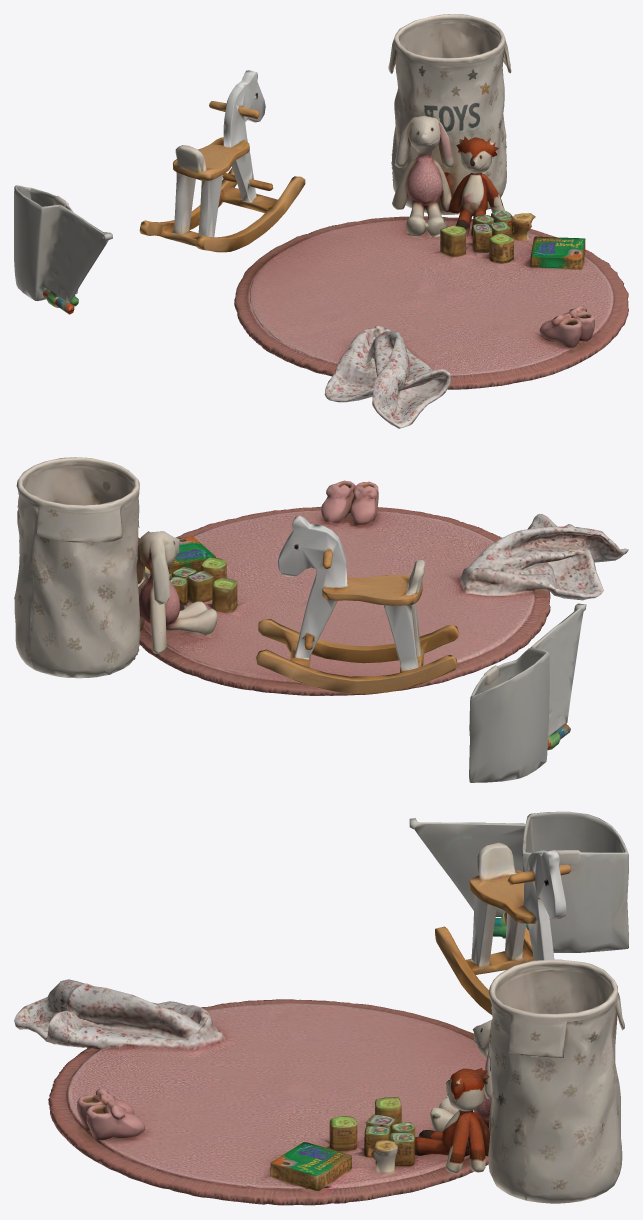
Rendered from scene_blush_rug.glb.
3 views of the same model, one above another, from view 1: azimuth 30°, elevation 25°; view 2: azimuth 150°, elevation 25°; view 3: azimuth 270°, elevation 25° (orthographic). The views are drawn at different scales.
Parts seen in each view (by area): view 1: tripo_node_23c40bcb-fa87-4b17-aeb9-40655cdfcb4f; view 2: tripo_node_23c40bcb-fa87-4b17-aeb9-40655cdfcb4f; view 3: tripo_node_23c40bcb-fa87-4b17-aeb9-40655cdfcb4f.
Boxes of the visible parts, x1,y1,x2,y2 form: tripo_node_23c40bcb-fa87-4b17-aeb9-40655cdfcb4f: [14, 14, 628, 428]; tripo_node_23c40bcb-fa87-4b17-aeb9-40655cdfcb4f: [14, 457, 628, 782]; tripo_node_23c40bcb-fa87-4b17-aeb9-40655cdfcb4f: [14, 811, 628, 1205].
Bounding box in the file's own units: 0.9808 × 0.3553 × 0.9101.
1 material, 1 textured.
